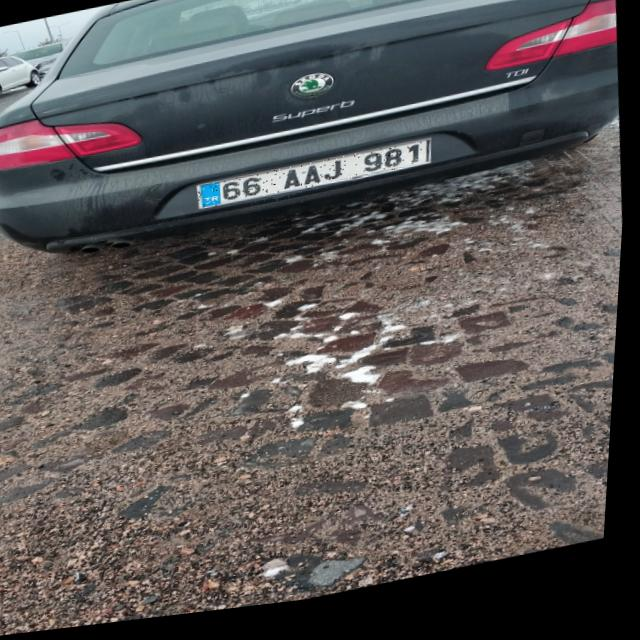license_plate: (197, 149, 434, 215)
